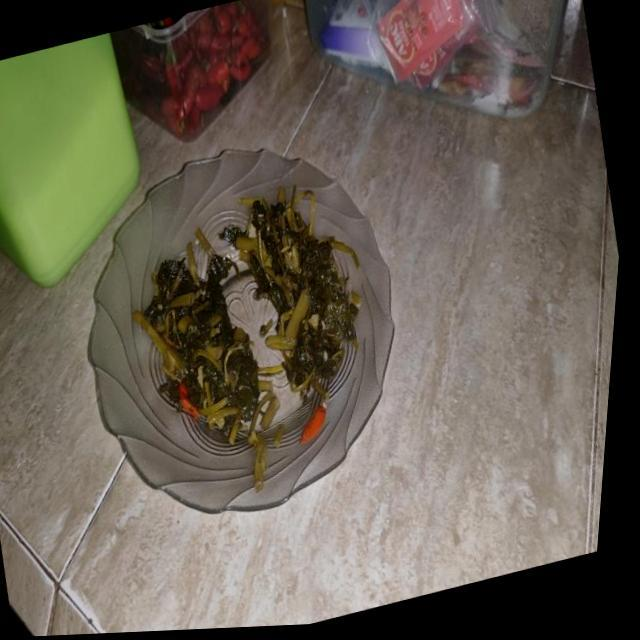tumis_kangkung: (144, 228, 278, 470), (220, 185, 360, 404)
